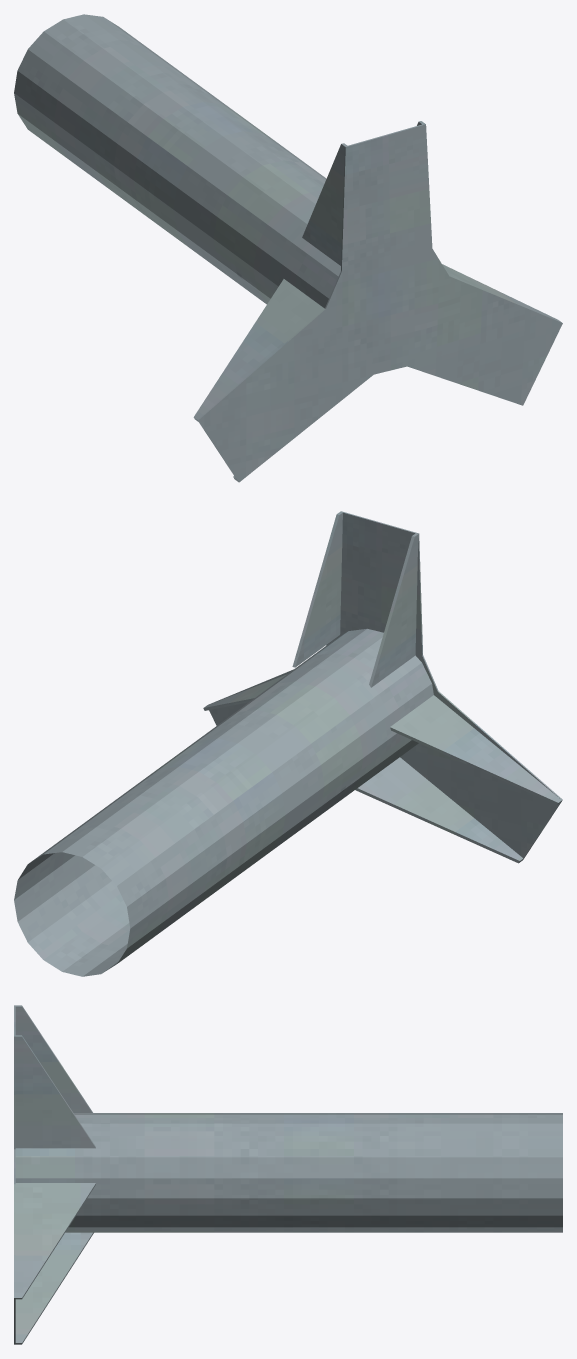
File: dz001-geode.glb
3 renders of one model, top to bottom at view 1: azimuth 30°, elevation 25°; view 2: azimuth 150°, elevation 25°; view 3: azimuth 270°, elevation 25°, orthographic. The views are drawn at different scales.
Visible parts, largest first — view 1: Node; view 2: Node; view 3: Node.
Part boxes in pixels (bbox=[...]): Node: bbox=[14, 14, 562, 482]; Node: bbox=[14, 511, 562, 976]; Node: bbox=[14, 1005, 562, 1344].
Size of the model in its own units: 1.65 by 1.35 by 2.46.
1 material, 1 textured.
